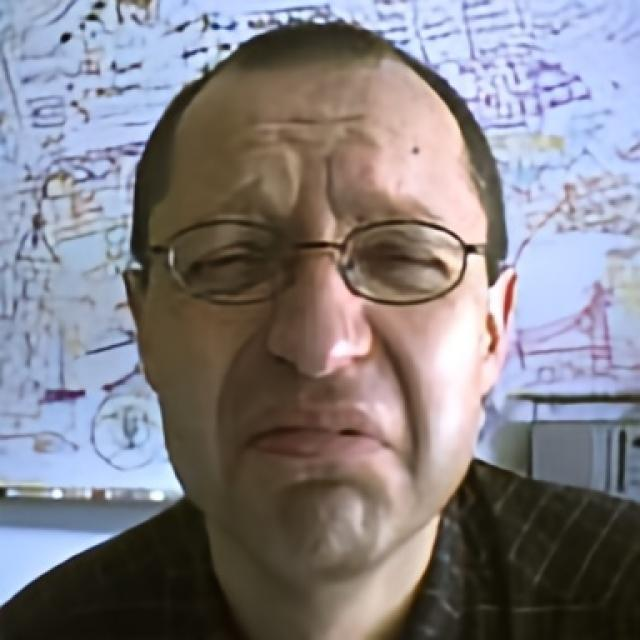disgust: (133, 55, 489, 580)
